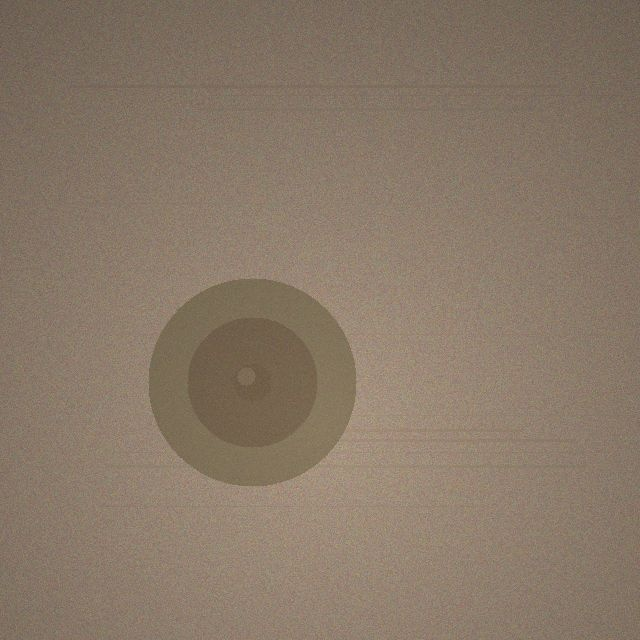good: (148, 278, 356, 486)
